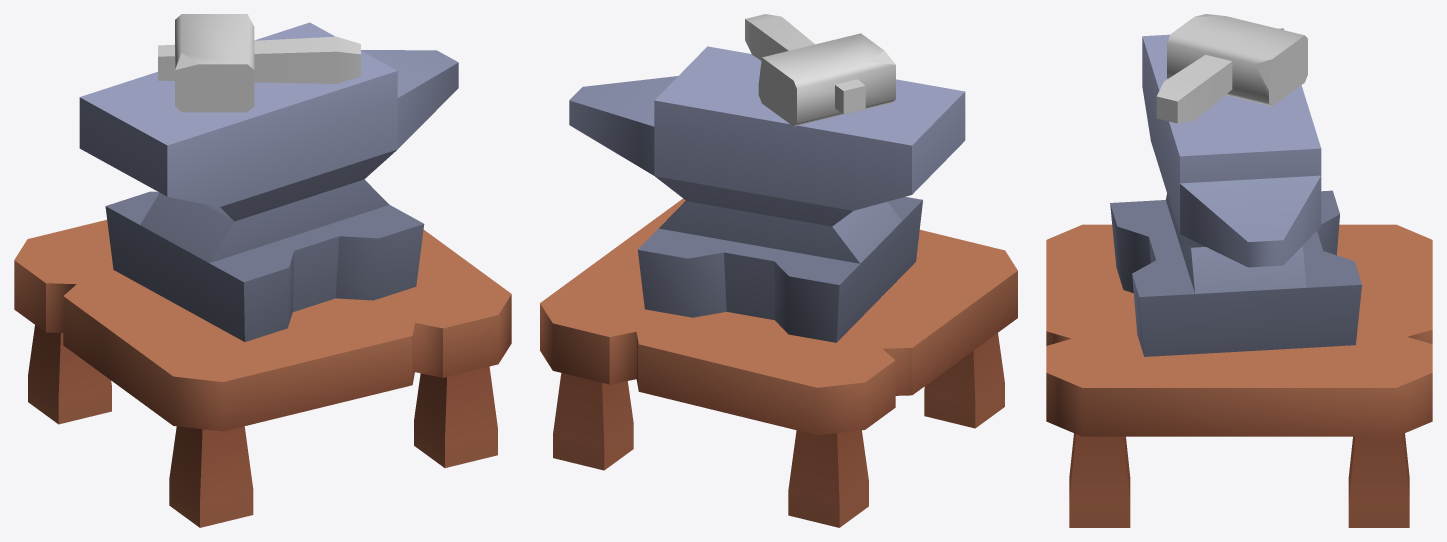
Rendered from KS_workbench-anvil.glb.
3 views of the same model, side by side, from view 1: azimuth 30°, elevation 25°; view 2: azimuth 150°, elevation 25°; view 3: azimuth 270°, elevation 25° (orthographic). The views are drawn at different scales.
Visible parts, largest first — view 1: workbench-anvil, hammer; view 2: workbench-anvil, hammer; view 3: workbench-anvil, hammer.
Part boxes in pixels (<box>): workbench-anvil: <box>14,22,511,527</box>; hammer: <box>158,14,360,112</box>; workbench-anvil: <box>540,46,1017,527</box>; hammer: <box>745,14,895,126</box>; workbench-anvil: <box>1046,28,1432,527</box>; hammer: <box>1156,14,1307,123</box>.
Bounding box in the file's own units: 0.3227 × 0.3358 × 0.2957.
